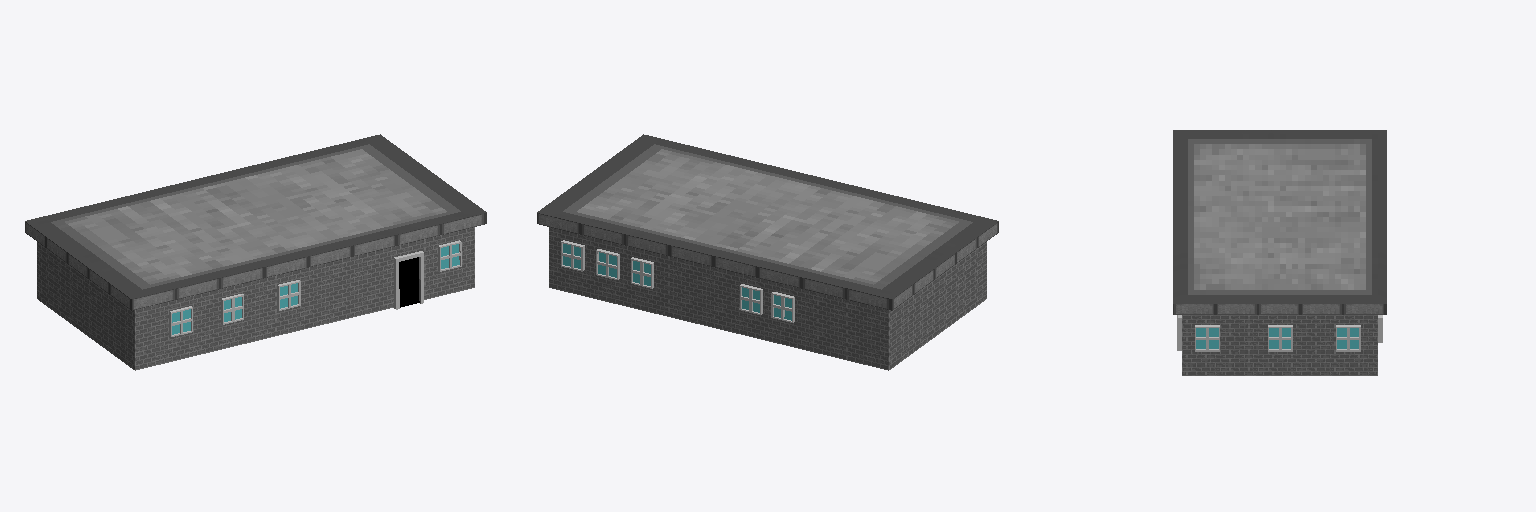
3 renders of one model, left to right at view 1: azimuth 30°, elevation 25°; view 2: azimuth 150°, elevation 25°; view 3: azimuth 270°, elevation 25°, orthographic.
Visible parts, largest first — view 1: building_4; view 2: building_4; view 3: building_4.
Part boxes in pixels (x1,y1,x2,y2): building_4: (25, 134, 486, 370); building_4: (537, 134, 998, 370); building_4: (1173, 130, 1386, 375).
Bounding box in the file's own units: 20.89 × 4.39 × 10.89.
5 materials, 2 textured.